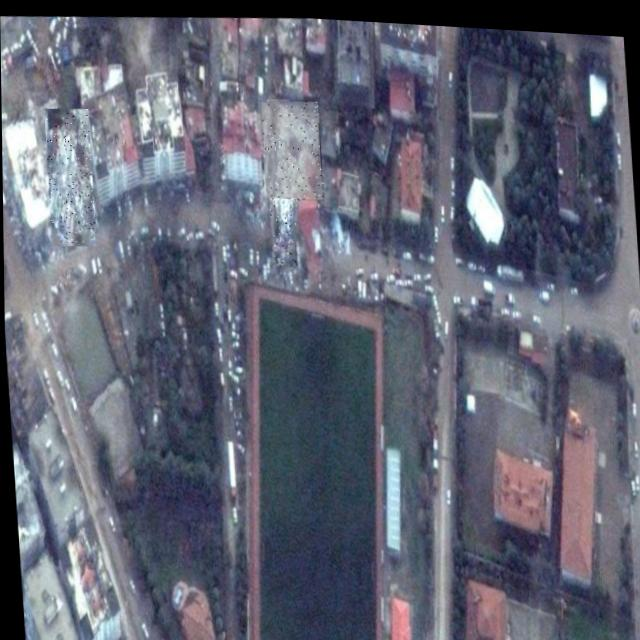Rubble: (44, 106, 96, 247), (259, 94, 324, 200), (269, 194, 300, 265)
